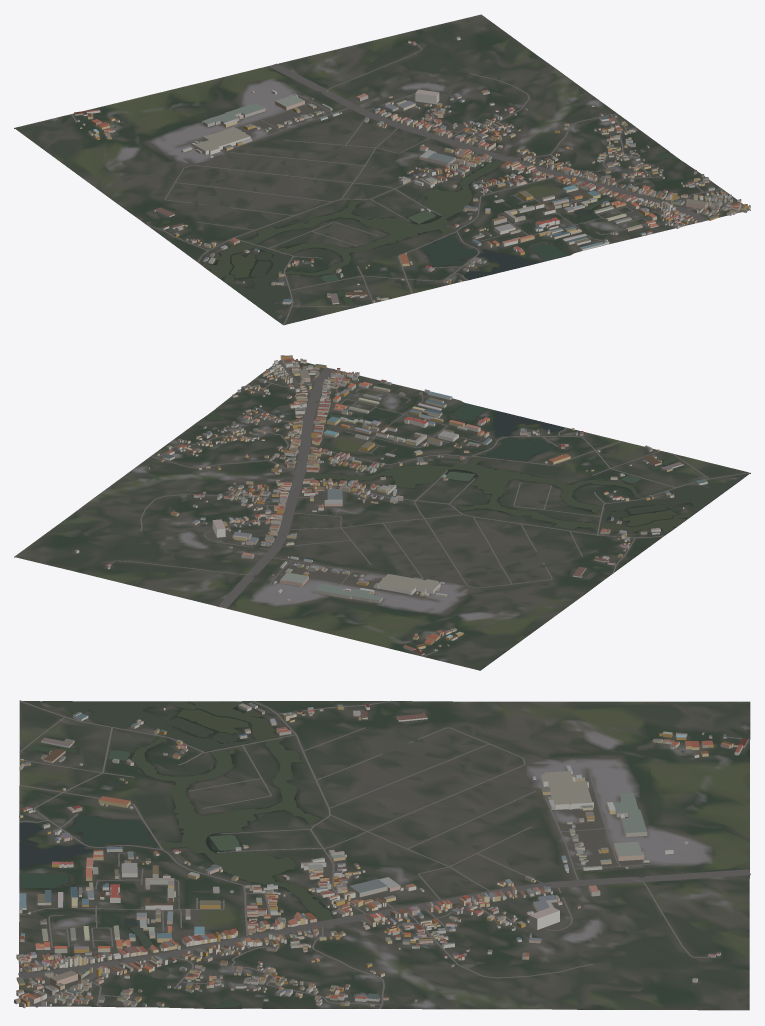
3 renders of one model, top to bottom at view 1: azimuth 30°, elevation 25°; view 2: azimuth 150°, elevation 25°; view 3: azimuth 270°, elevation 25°, orthographic. The views are drawn at different scales.
Parts seen in each view (by area): view 1: ground, buildings, water, roads; view 2: ground, buildings, water, roads; view 3: ground, buildings, water, roads.
Part boxes in pixels (x1,y1,x2,y2): ground: [14, 14, 750, 324]; buildings: [74, 36, 750, 304]; water: [114, 127, 679, 323]; roads: [71, 44, 744, 325]; ground: [14, 359, 750, 670]; buildings: [74, 355, 707, 655]; water: [206, 403, 748, 634]; roads: [110, 360, 750, 656]; ground: [19, 701, 750, 1010]; buildings: [14, 702, 748, 1008]; water: [19, 701, 683, 1008]; roads: [18, 700, 750, 1008].
Size of the model in its own units: 1406 by 29.23 by 1414.
